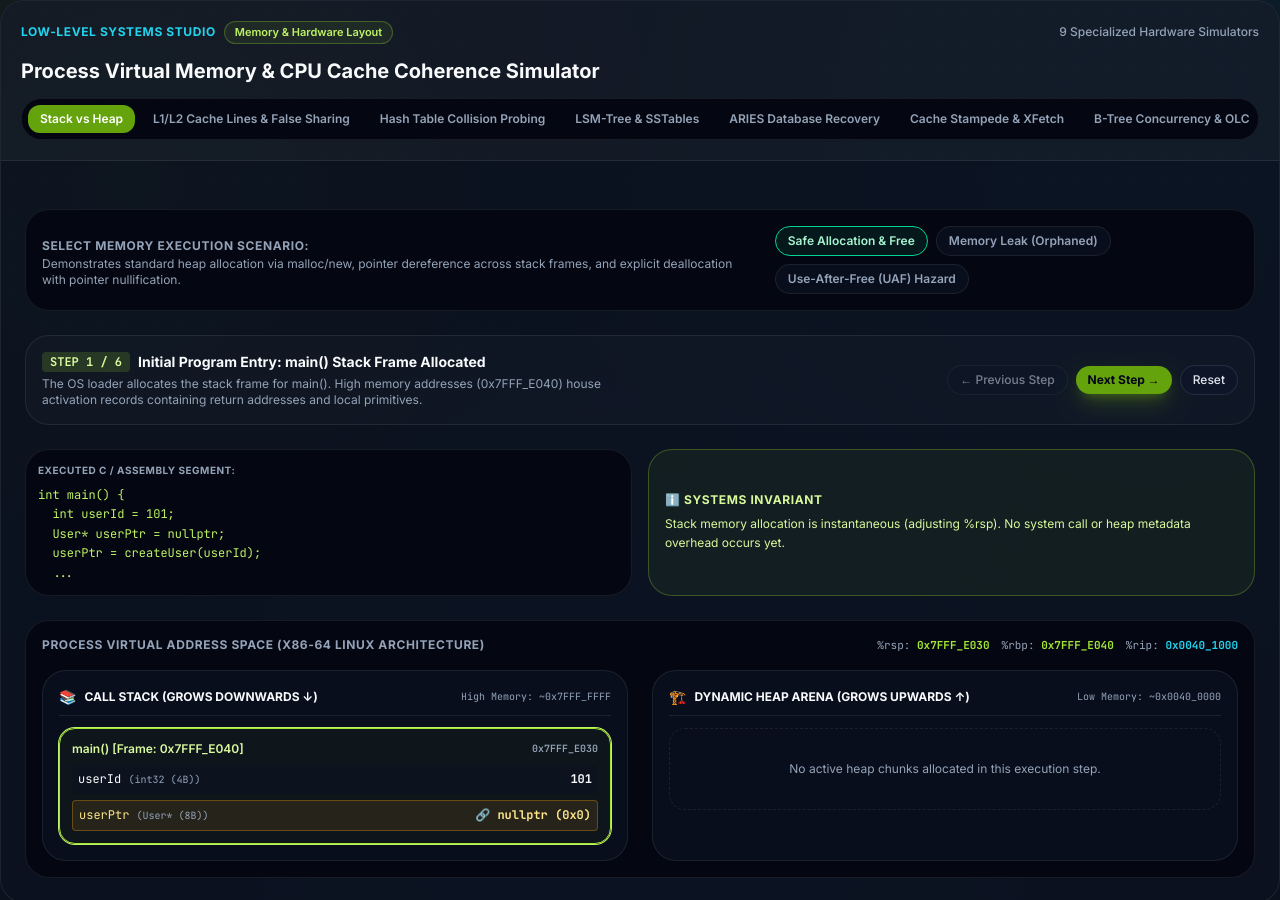
Test: MemoryCacheInspectorSandbox › switches to Memory Leak and Use-After-Free scenarios in Stack vs Heap module
The width and height of the screenshot is (1280, 900).
Note: Switch to Memory Leak
Step 1. Click the button "Memory Leak (Orphaned)" → (1023, 240), box [936,226,1111,256]
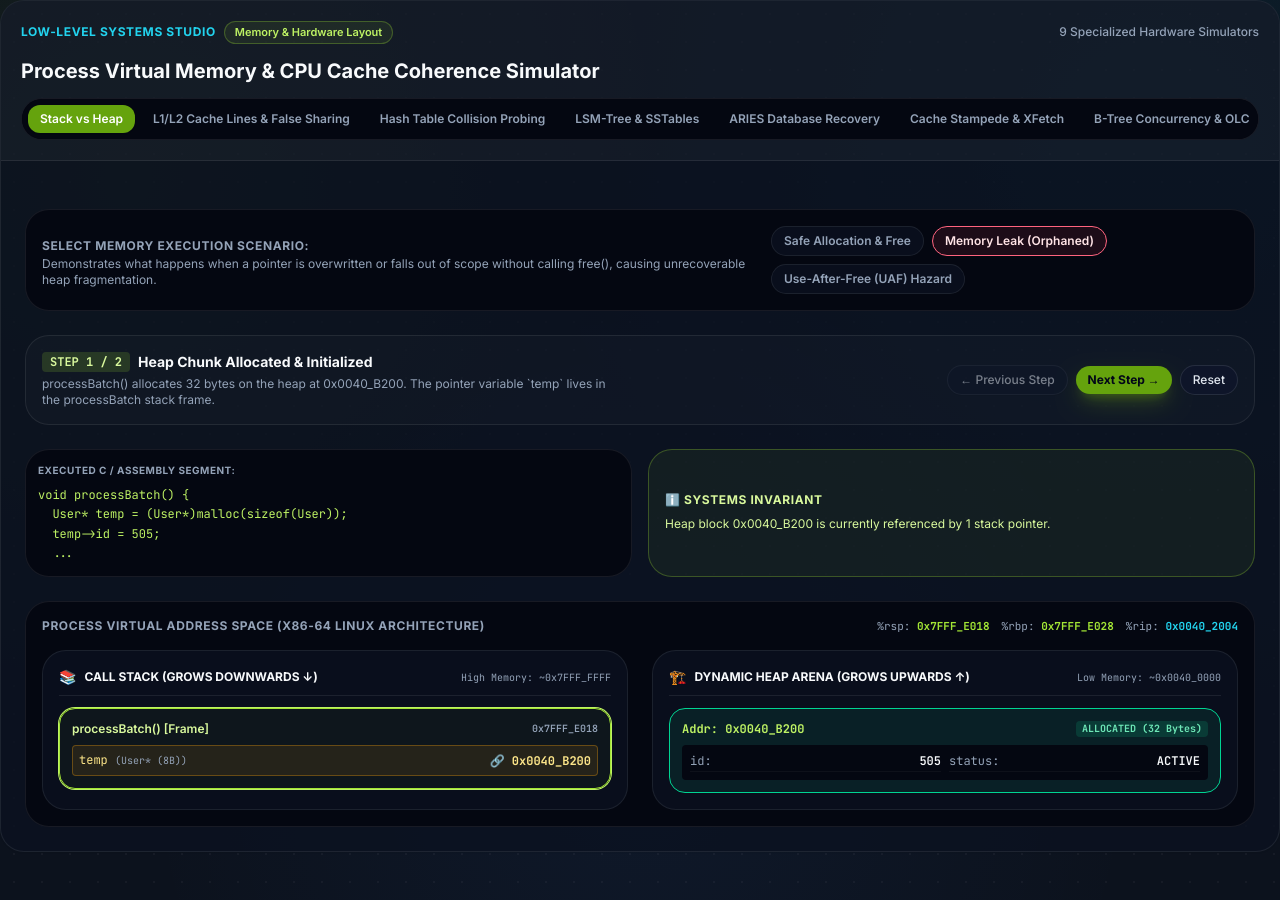
expect the heading "Heap Chunk Allocated & Initialized" is shown: met, box [138,352,372,372]
Step 2. Click the button "Next Step →" → (1124, 380), box [1076,366,1172,394]
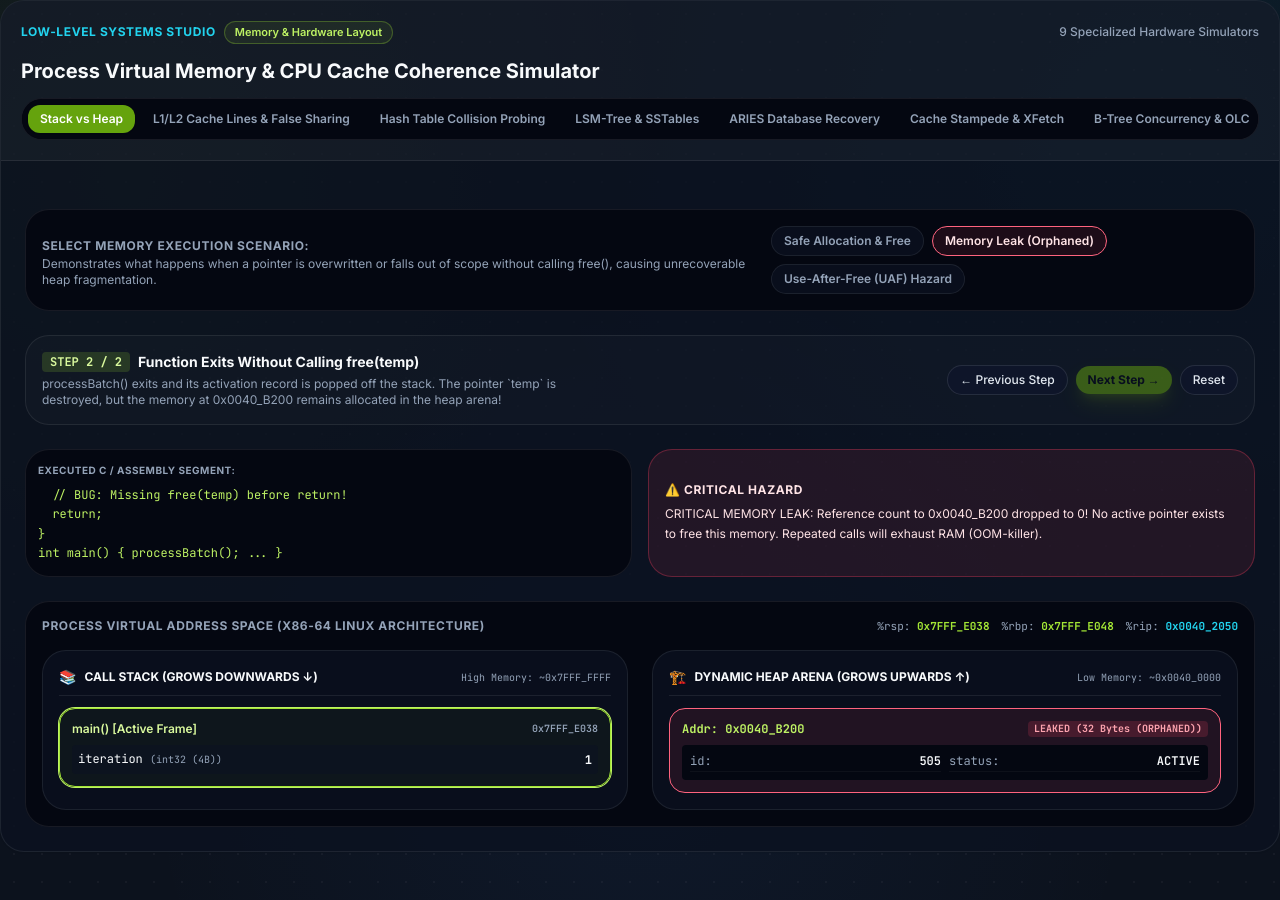
expect the heading "Function Exits Without Calling free(temp)" is shown: met, box [138,352,419,372]
expect the text "CRITICAL MEMORY LEAK" is shown: met, box [665,506,1224,540]
Note: Switch to Use-After-Free
Step 3. Click the button "Use-After-Free (UAF) Hazard" → (868, 278), box [771,264,965,294]
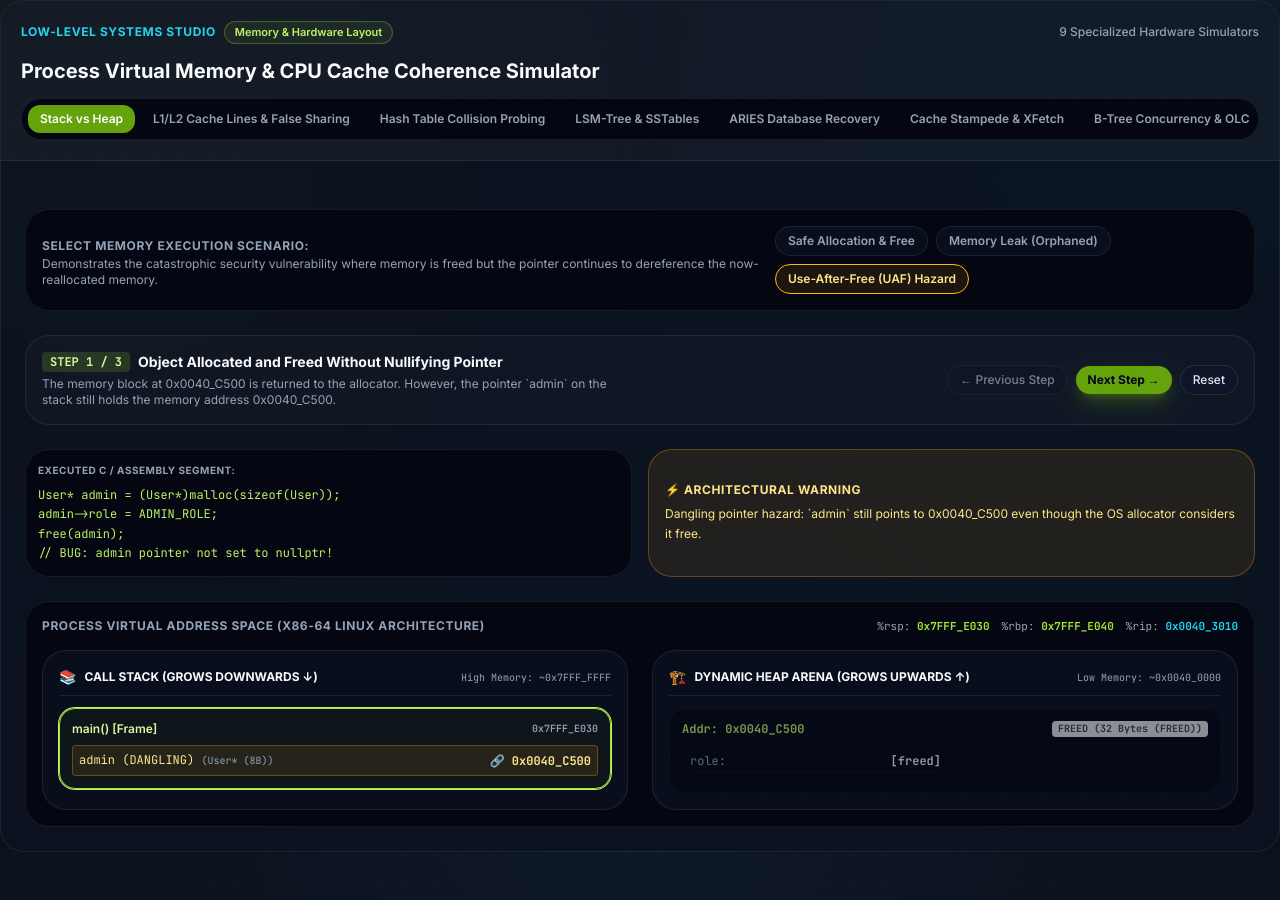
expect the heading "Object Allocated and Freed Without Nullifying Pointer" is shown: met, box [138,352,503,372]
expect the text "Dangling pointer hazard" is shown: met, box [665,506,1235,540]
